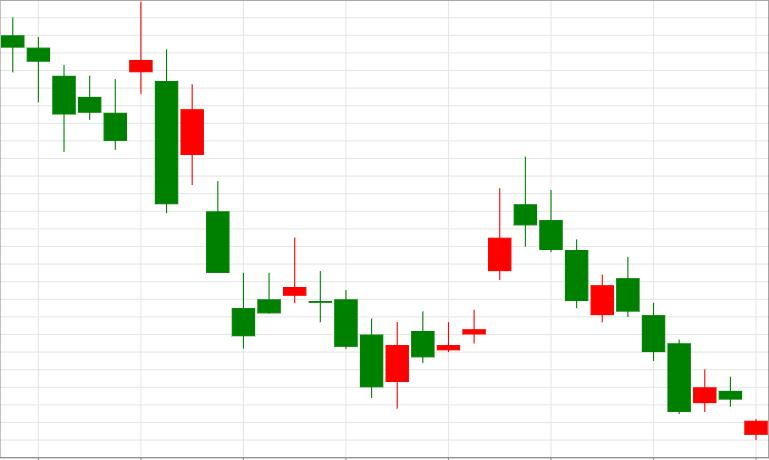evening_star_fall: (385, 156, 563, 410)
inverse_hammer_rise: (2, 17, 127, 152)
shooting_star_fall: (386, 188, 512, 411)
